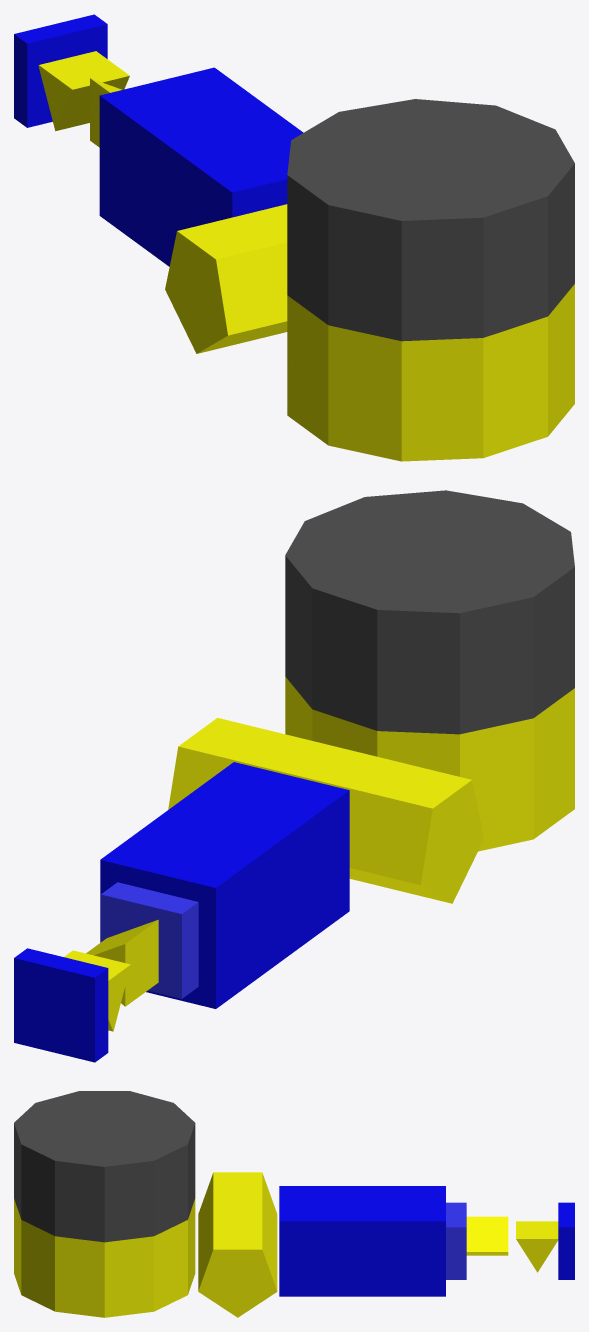
The model's file is kevin3.dae.
The picture shows the model from 3 angles, top to bottom: view 1: azimuth 30°, elevation 25°; view 2: azimuth 150°, elevation 25°; view 3: azimuth 270°, elevation 25°; orthographic projection. The views are drawn at different scales.
Parts seen in each view (by area): view 1: base_link, base_motor, extend_link1, lift_motor, wrist_plate, wrist_tilt_motor, wrist_motor; view 2: base_link, extend_link1, lift_motor, base_motor, wrist_plate, extend_link2, wrist_motor, wrist_tilt_motor; view 3: base_link, extend_link1, base_motor, lift_motor, wrist_motor, extend_link2, wrist_tilt_motor, wrist_plate.
Part boxes in pixels (x1,y1,x2,y2): base_link: [287, 99, 574, 341]; base_motor: [287, 284, 574, 461]; extend_link1: [99, 67, 303, 266]; lift_motor: [165, 204, 287, 353]; wrist_plate: [14, 14, 107, 127]; wrist_tilt_motor: [38, 51, 129, 131]; wrist_motor: [90, 78, 121, 147]; base_link: [285, 490, 574, 734]; extend_link1: [100, 762, 349, 1008]; lift_motor: [168, 718, 484, 903]; base_motor: [285, 677, 574, 851]; wrist_plate: [14, 948, 108, 1062]; extend_link2: [101, 882, 198, 998]; wrist_motor: [86, 919, 158, 1006]; wrist_tilt_motor: [64, 950, 130, 1031]; base_link: [14, 1091, 195, 1242]; extend_link1: [279, 1186, 445, 1296]; base_motor: [14, 1199, 195, 1317]; lift_motor: [198, 1172, 277, 1317]; wrist_motor: [466, 1216, 508, 1255]; extend_link2: [446, 1202, 466, 1279]; wrist_tilt_motor: [516, 1221, 558, 1272]; wrist_plate: [558, 1202, 574, 1279].
Size of what is drawn, in the model's own units: 0.22 by 0.6739 by 0.2.
